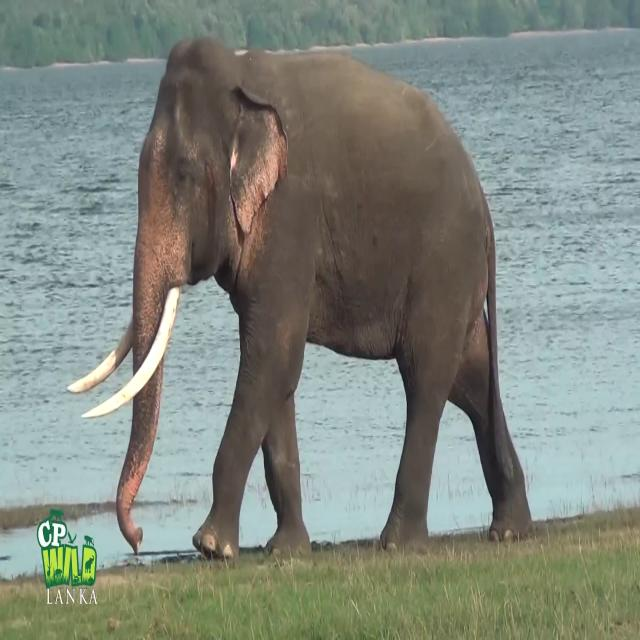Elephant: (67, 36, 536, 564)
